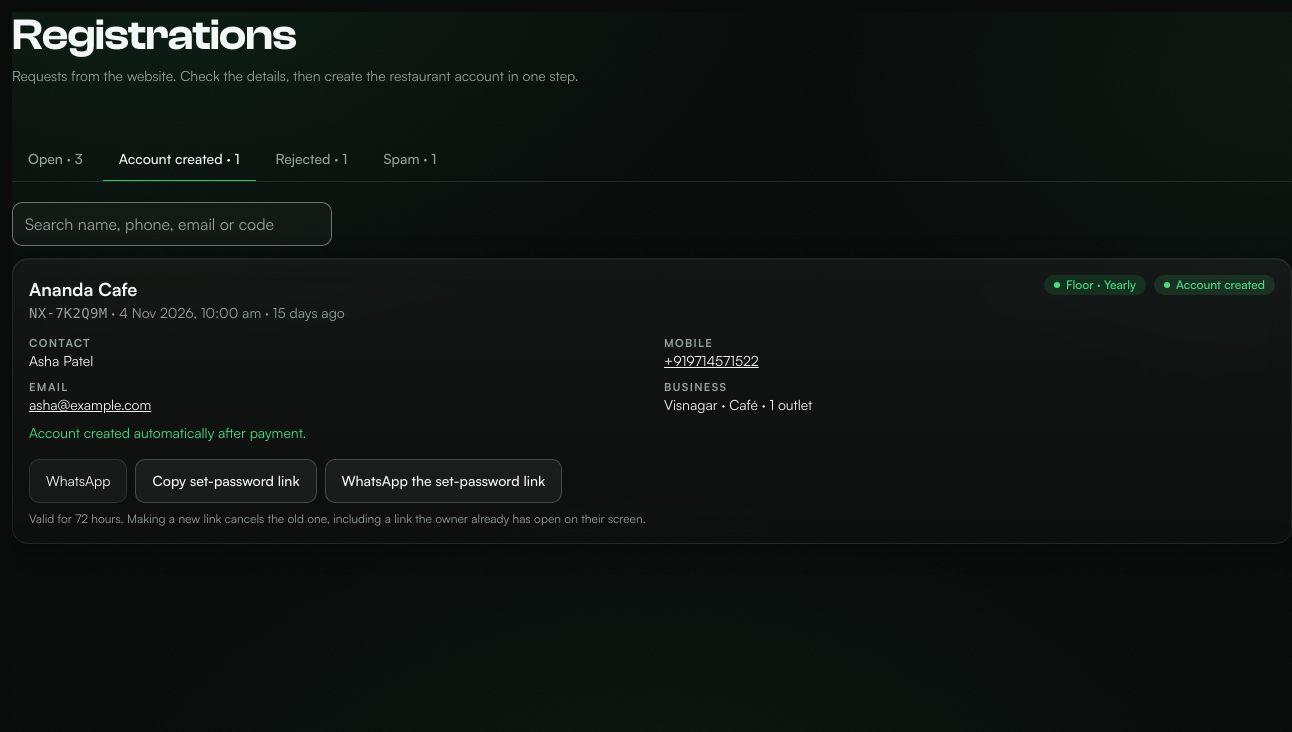
Test: Registrations: set-password link for an account that exists › says so when a link could not be made, and copies nothing
Click the button "Copy set-password link" at {"x": 226, "y": 481}, box [135,459,316,503]
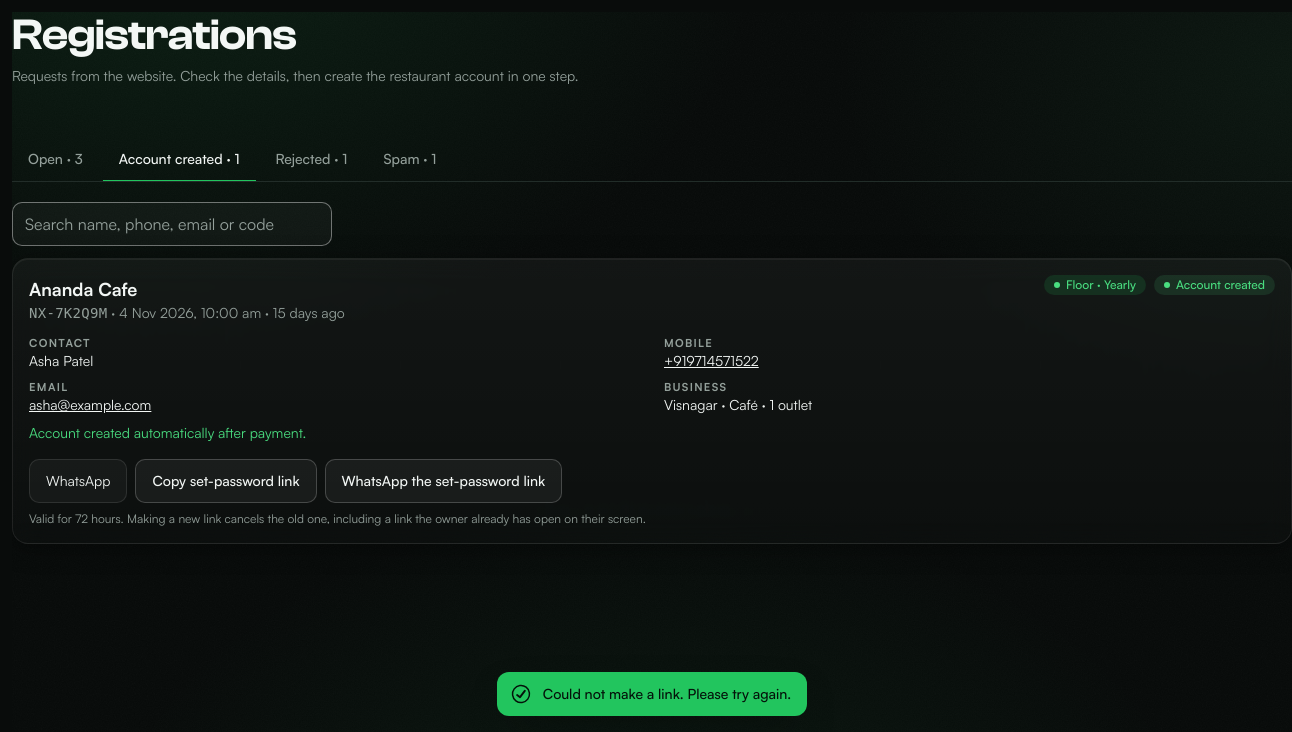
Result: the text "Could not make a link. Please try again." is shown at [543,684,791,704]
